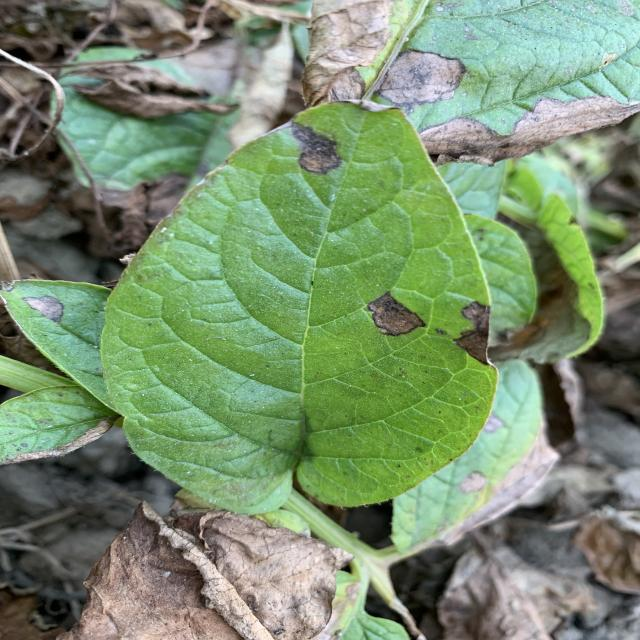lateblight: (492, 221, 587, 364), (367, 291, 425, 336), (292, 124, 342, 174), (453, 301, 490, 365), (22, 295, 63, 324)
